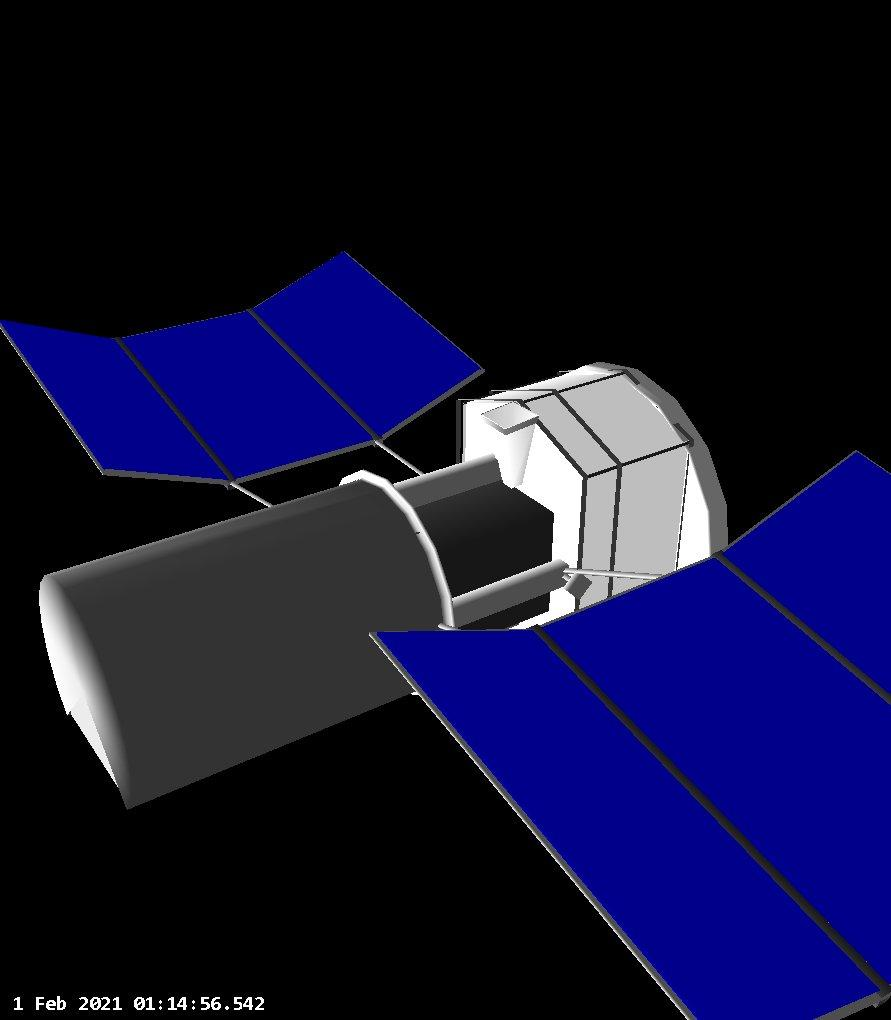antenna: (561, 572, 592, 599)
body: (36, 360, 732, 811)
solar: (369, 447, 891, 1020), (1, 246, 484, 489)
thruster: (480, 400, 537, 489)
